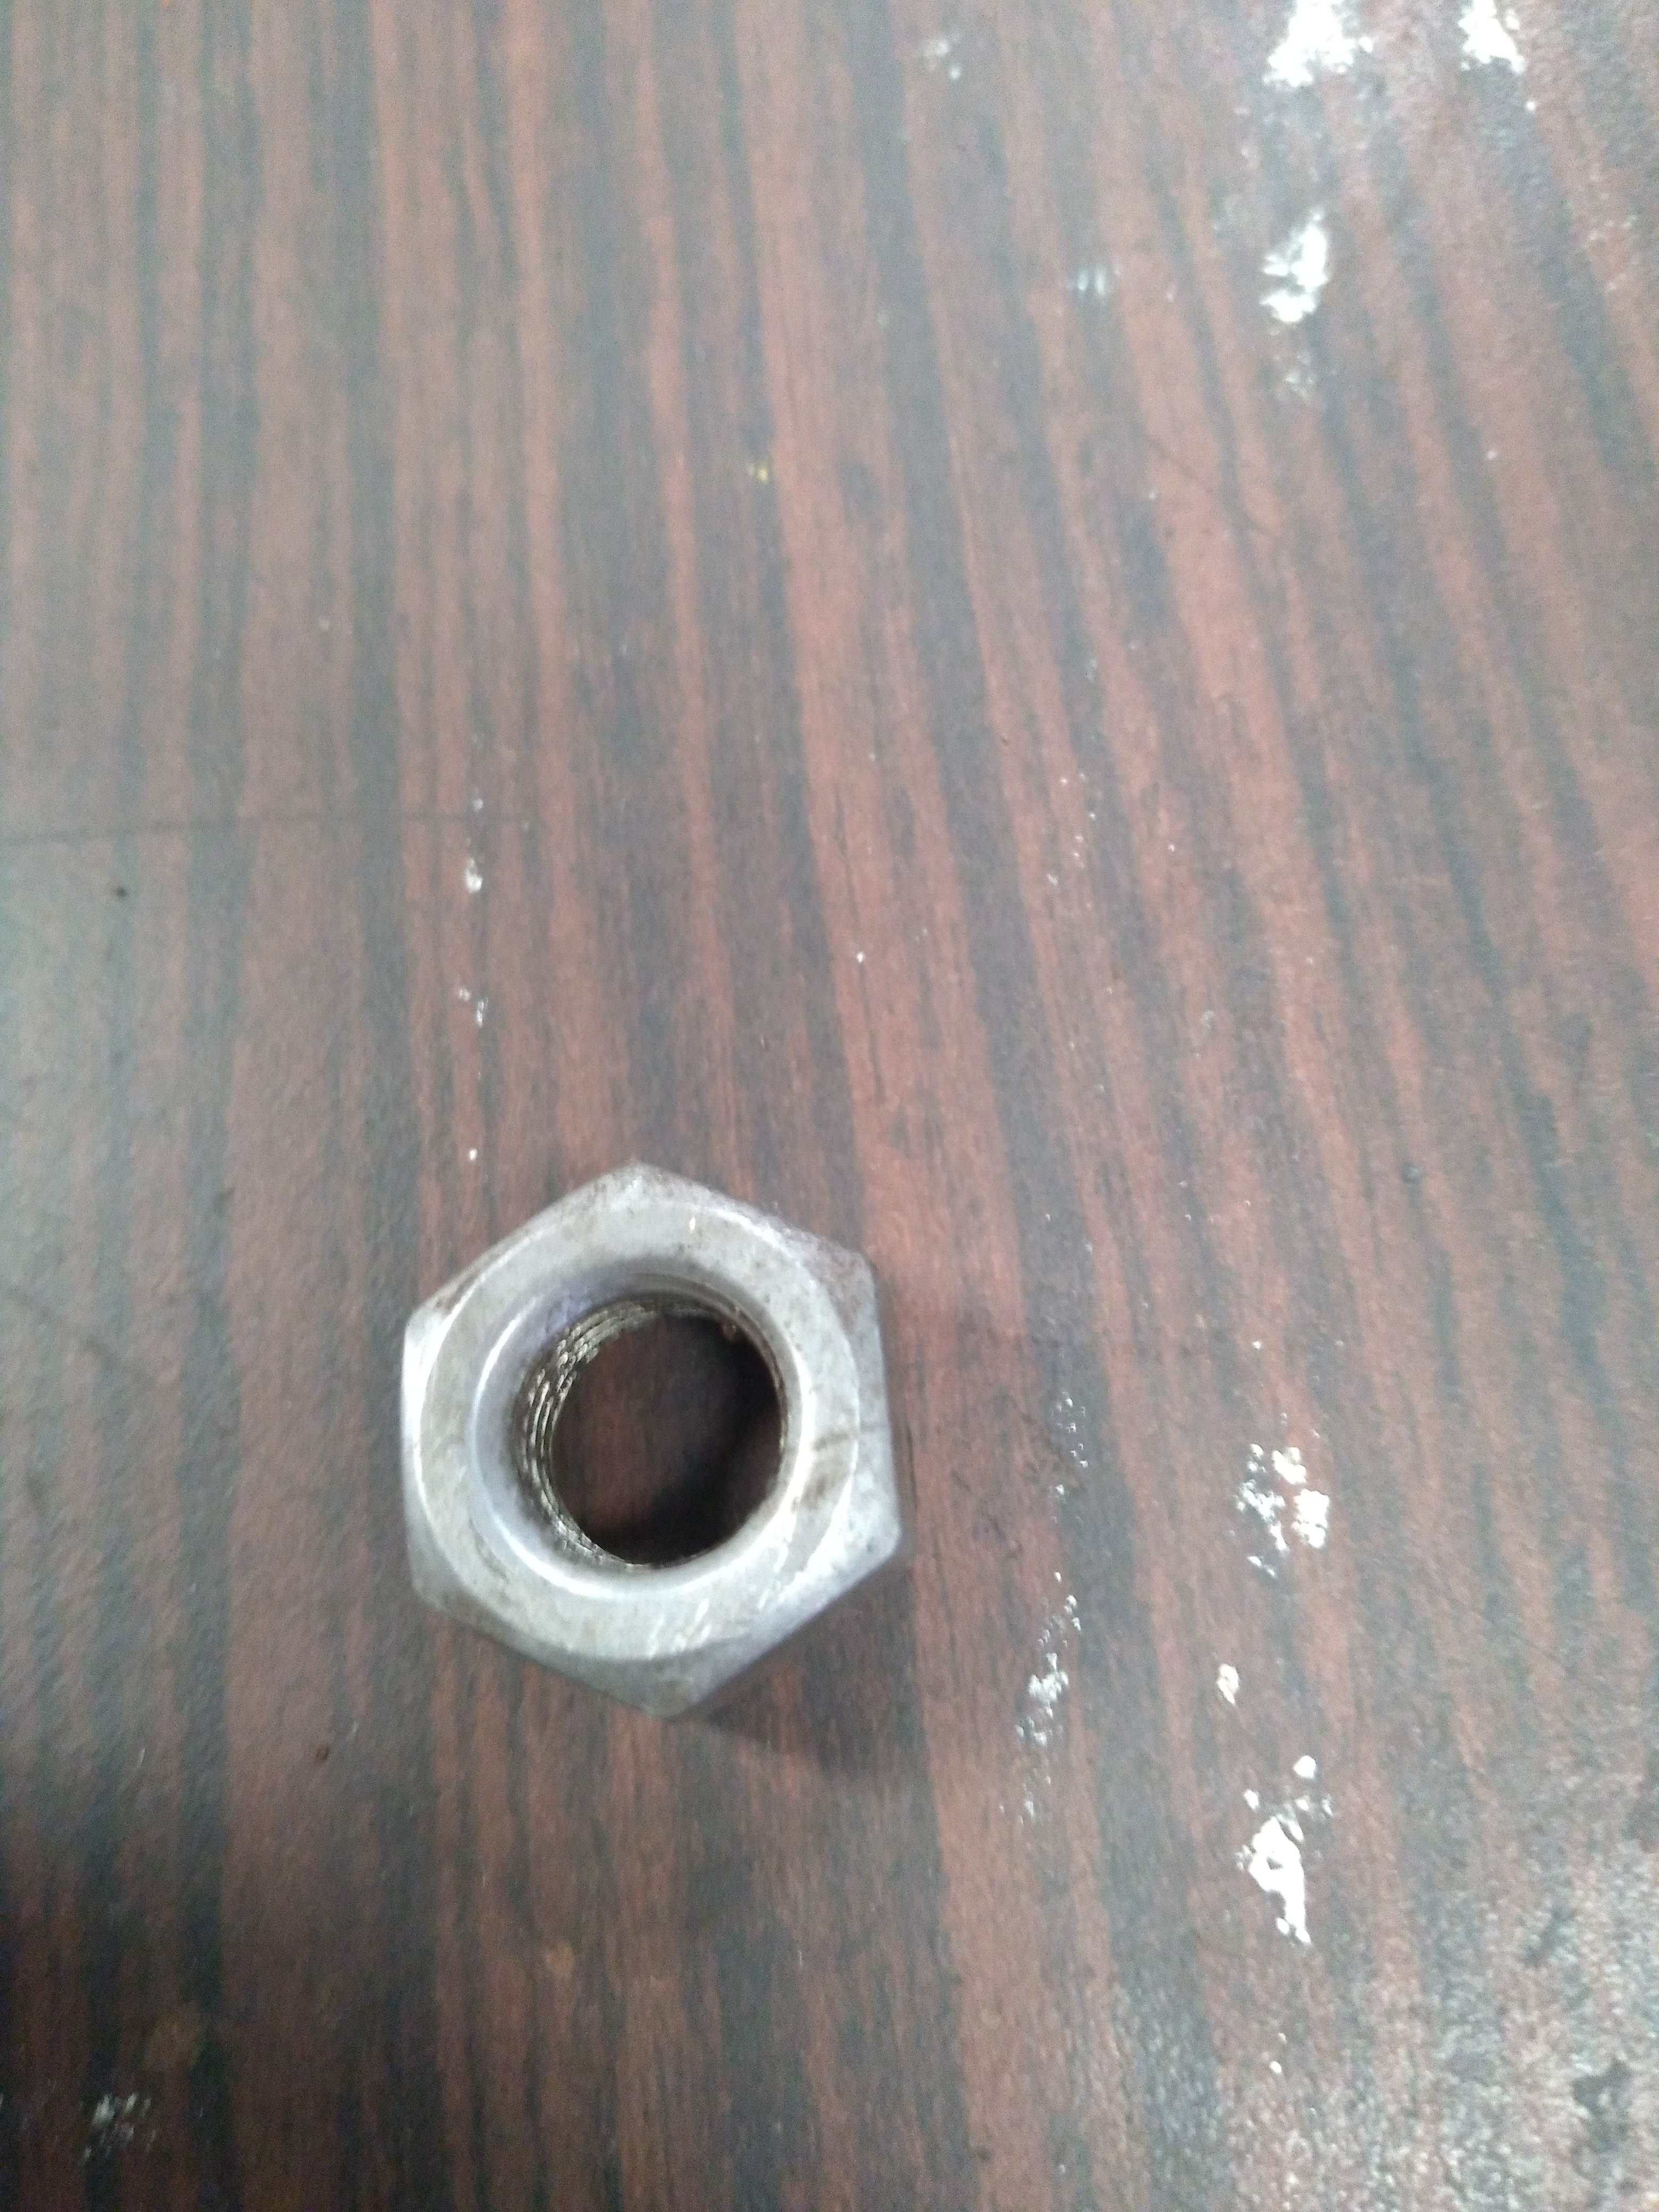Thread: (497, 1258, 847, 1618)
